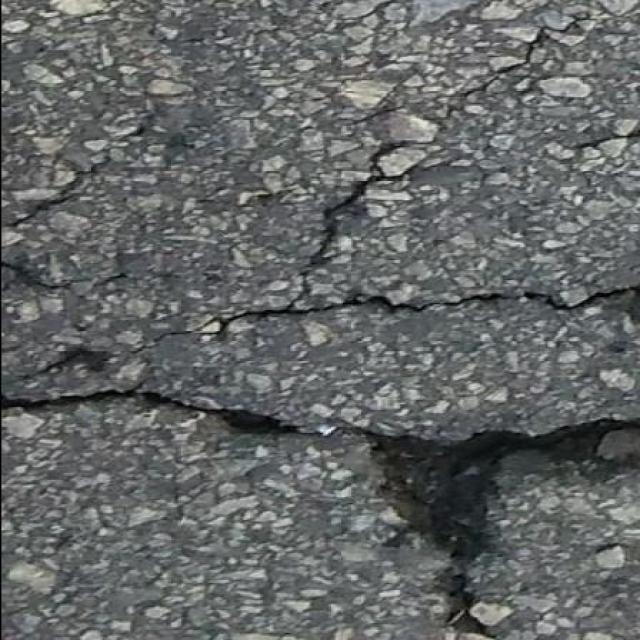Crack: (138, 140, 640, 350), (359, 420, 640, 640), (1, 390, 300, 435), (463, 14, 590, 98), (11, 152, 108, 226), (0, 260, 128, 291), (38, 350, 112, 375), (578, 131, 640, 150)
